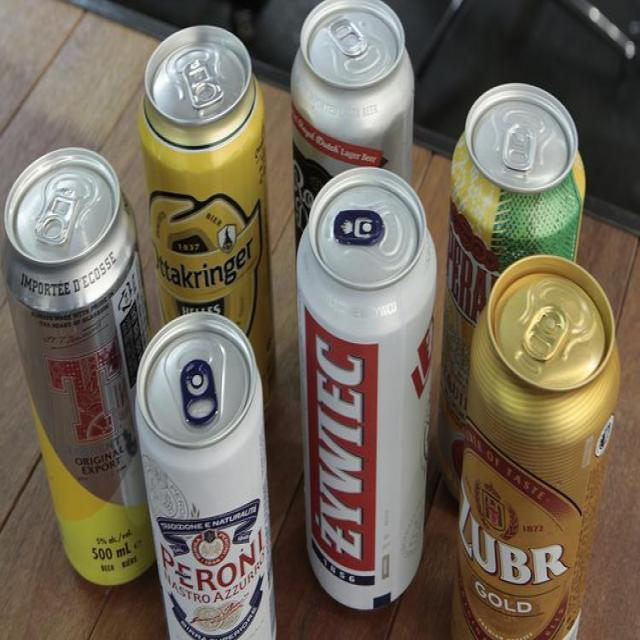beer-can: (2, 145, 160, 590), (454, 249, 623, 640), (436, 78, 587, 510), (297, 162, 435, 616), (142, 24, 280, 420), (134, 306, 279, 640), (290, 0, 415, 267)
